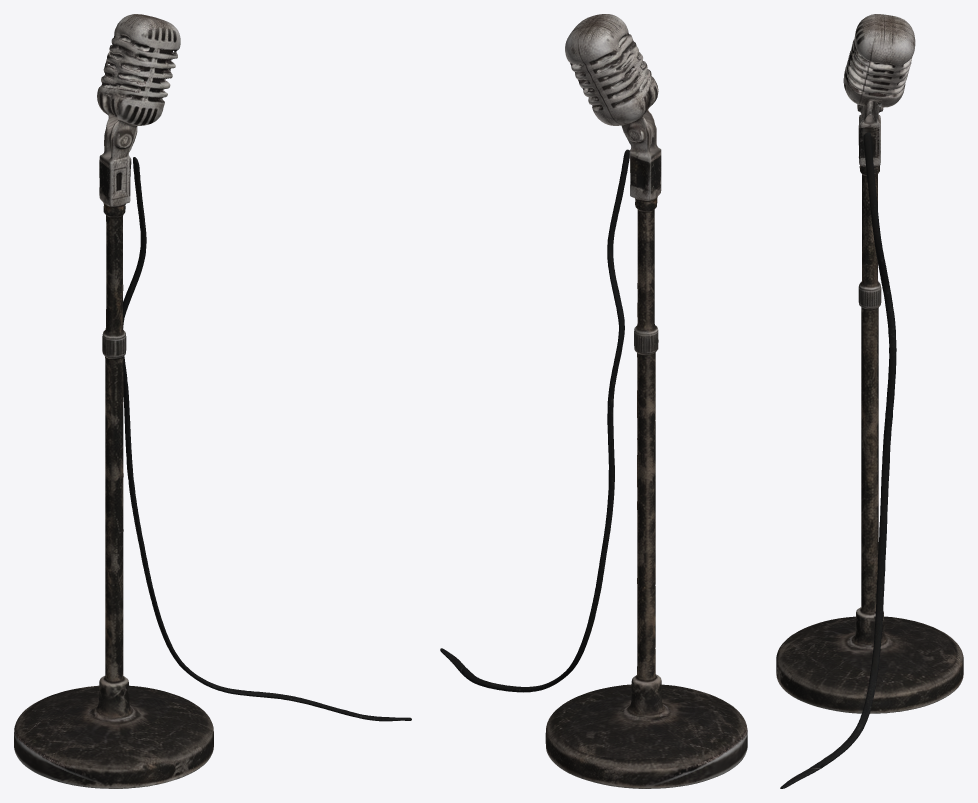
Rendered from Meshy_AI_Vintage_Microphone_St_1014012459_texture.obj.
The picture shows the model from 3 angles, left to right: view 1: azimuth 30°, elevation 25°; view 2: azimuth 150°, elevation 25°; view 3: azimuth 270°, elevation 25°; orthographic projection. The views are drawn at different scales.
Visible parts, largest first — view 1: Meshy_AI_Vintage_Microphone_St_1014012459_texture; view 2: Meshy_AI_Vintage_Microphone_St_1014012459_texture; view 3: Meshy_AI_Vintage_Microphone_St_1014012459_texture.
Boxes of the visible parts, bbox=[...] form: Meshy_AI_Vintage_Microphone_St_1014012459_texture: bbox=[14, 14, 411, 788]; Meshy_AI_Vintage_Microphone_St_1014012459_texture: bbox=[440, 14, 747, 788]; Meshy_AI_Vintage_Microphone_St_1014012459_texture: bbox=[776, 14, 963, 788].
Size of the model in its own units: 0.9345 by 1.9 by 0.4783.
1 material, 1 textured.
